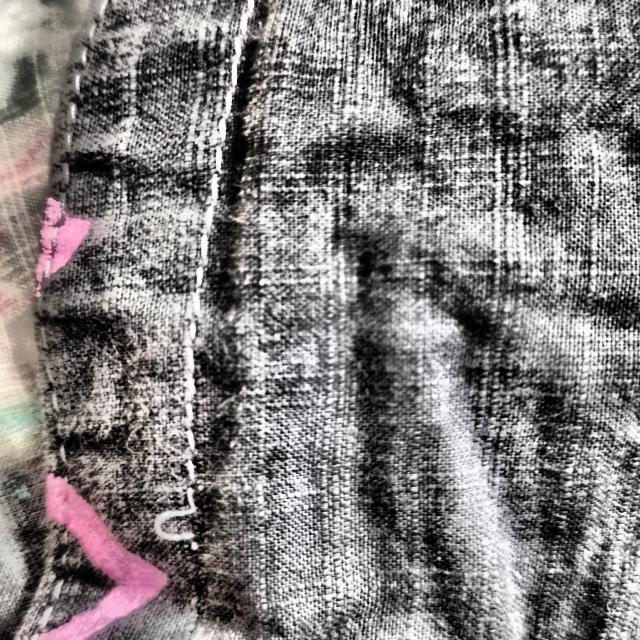Stitch: (126, 474, 286, 608)
